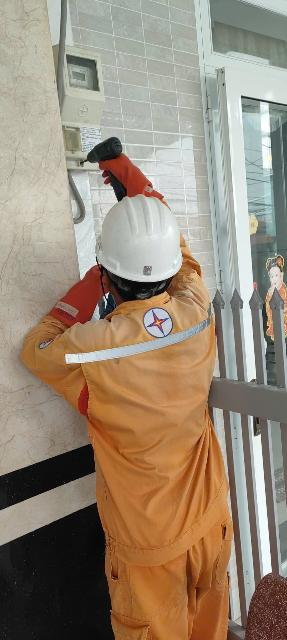gloves: (81, 131, 173, 212), (23, 262, 151, 319)
helmet: (88, 176, 198, 298)
